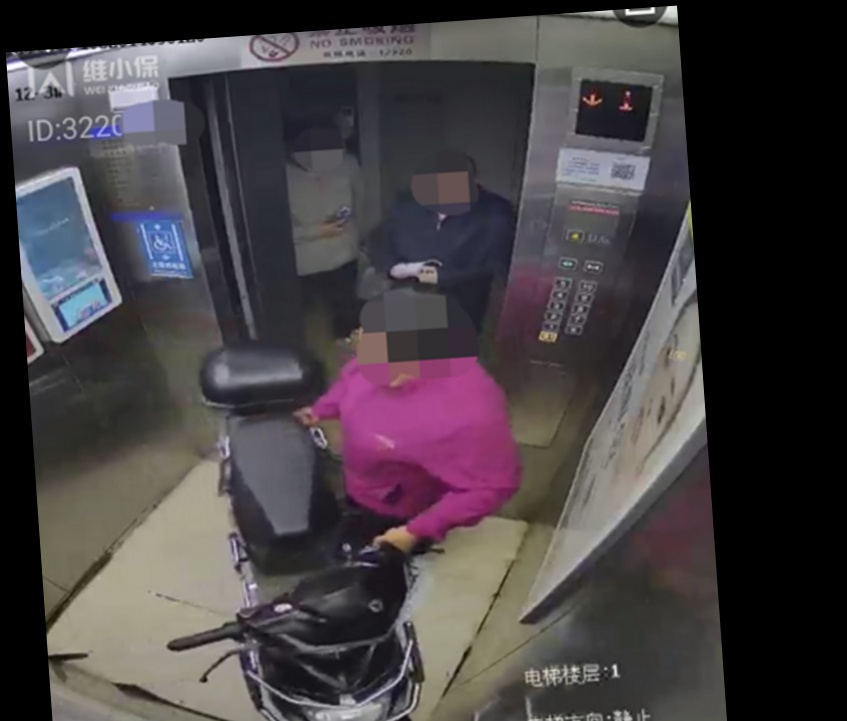ebike: (165, 350, 434, 720)
person: (306, 299, 526, 558)
